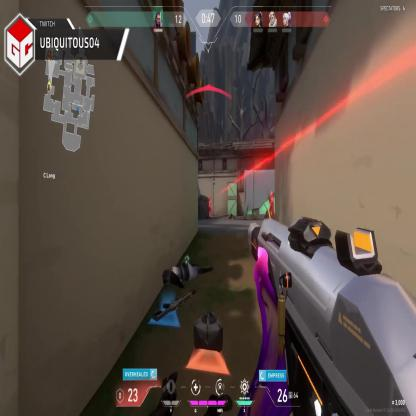enemy: (268, 190, 275, 221), (207, 196, 213, 218)
enemy_head: (208, 197, 212, 202), (270, 191, 273, 197)
